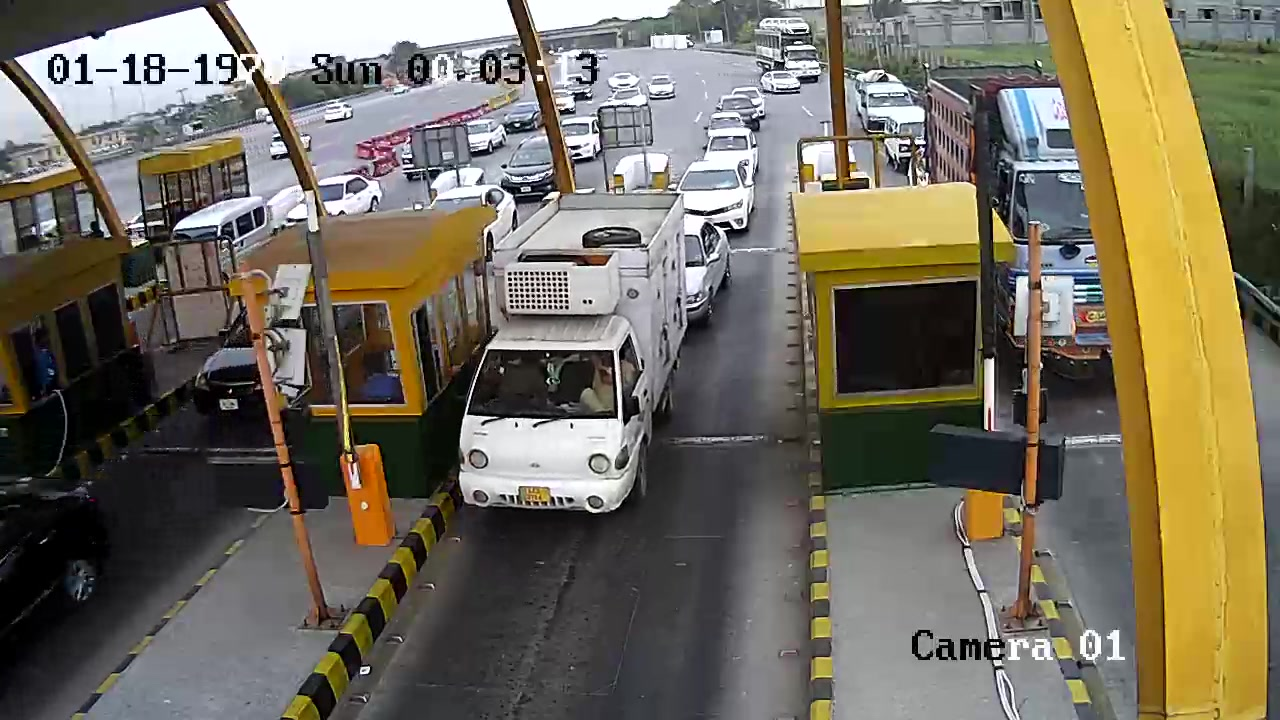F2: (450, 196, 687, 535)
